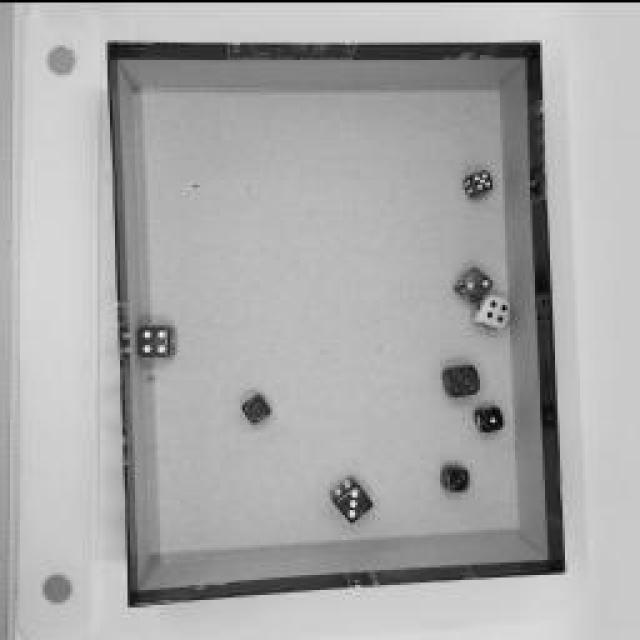dice_1: (471, 402, 504, 432)
dice_2: (455, 266, 495, 302)
dice_3: (330, 476, 372, 522), (440, 361, 480, 399), (240, 388, 272, 422), (438, 462, 470, 492)
dice_4: (472, 290, 510, 328), (136, 324, 176, 356)
dice_5: (463, 166, 495, 199)
